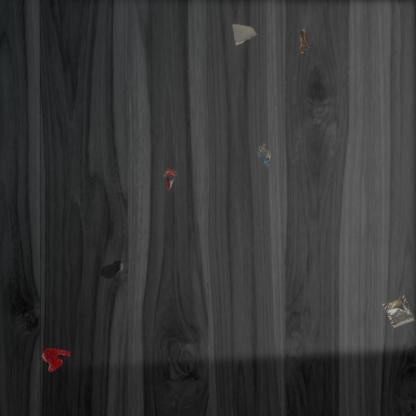dirty: (382, 294, 416, 329), (231, 22, 258, 46), (256, 141, 274, 169), (296, 26, 312, 54), (162, 166, 180, 190)
liquid: (41, 348, 70, 372), (99, 260, 125, 280)
